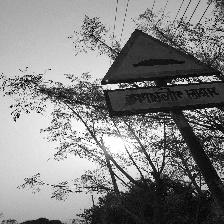Speed-breaker: (102, 29, 224, 117)
